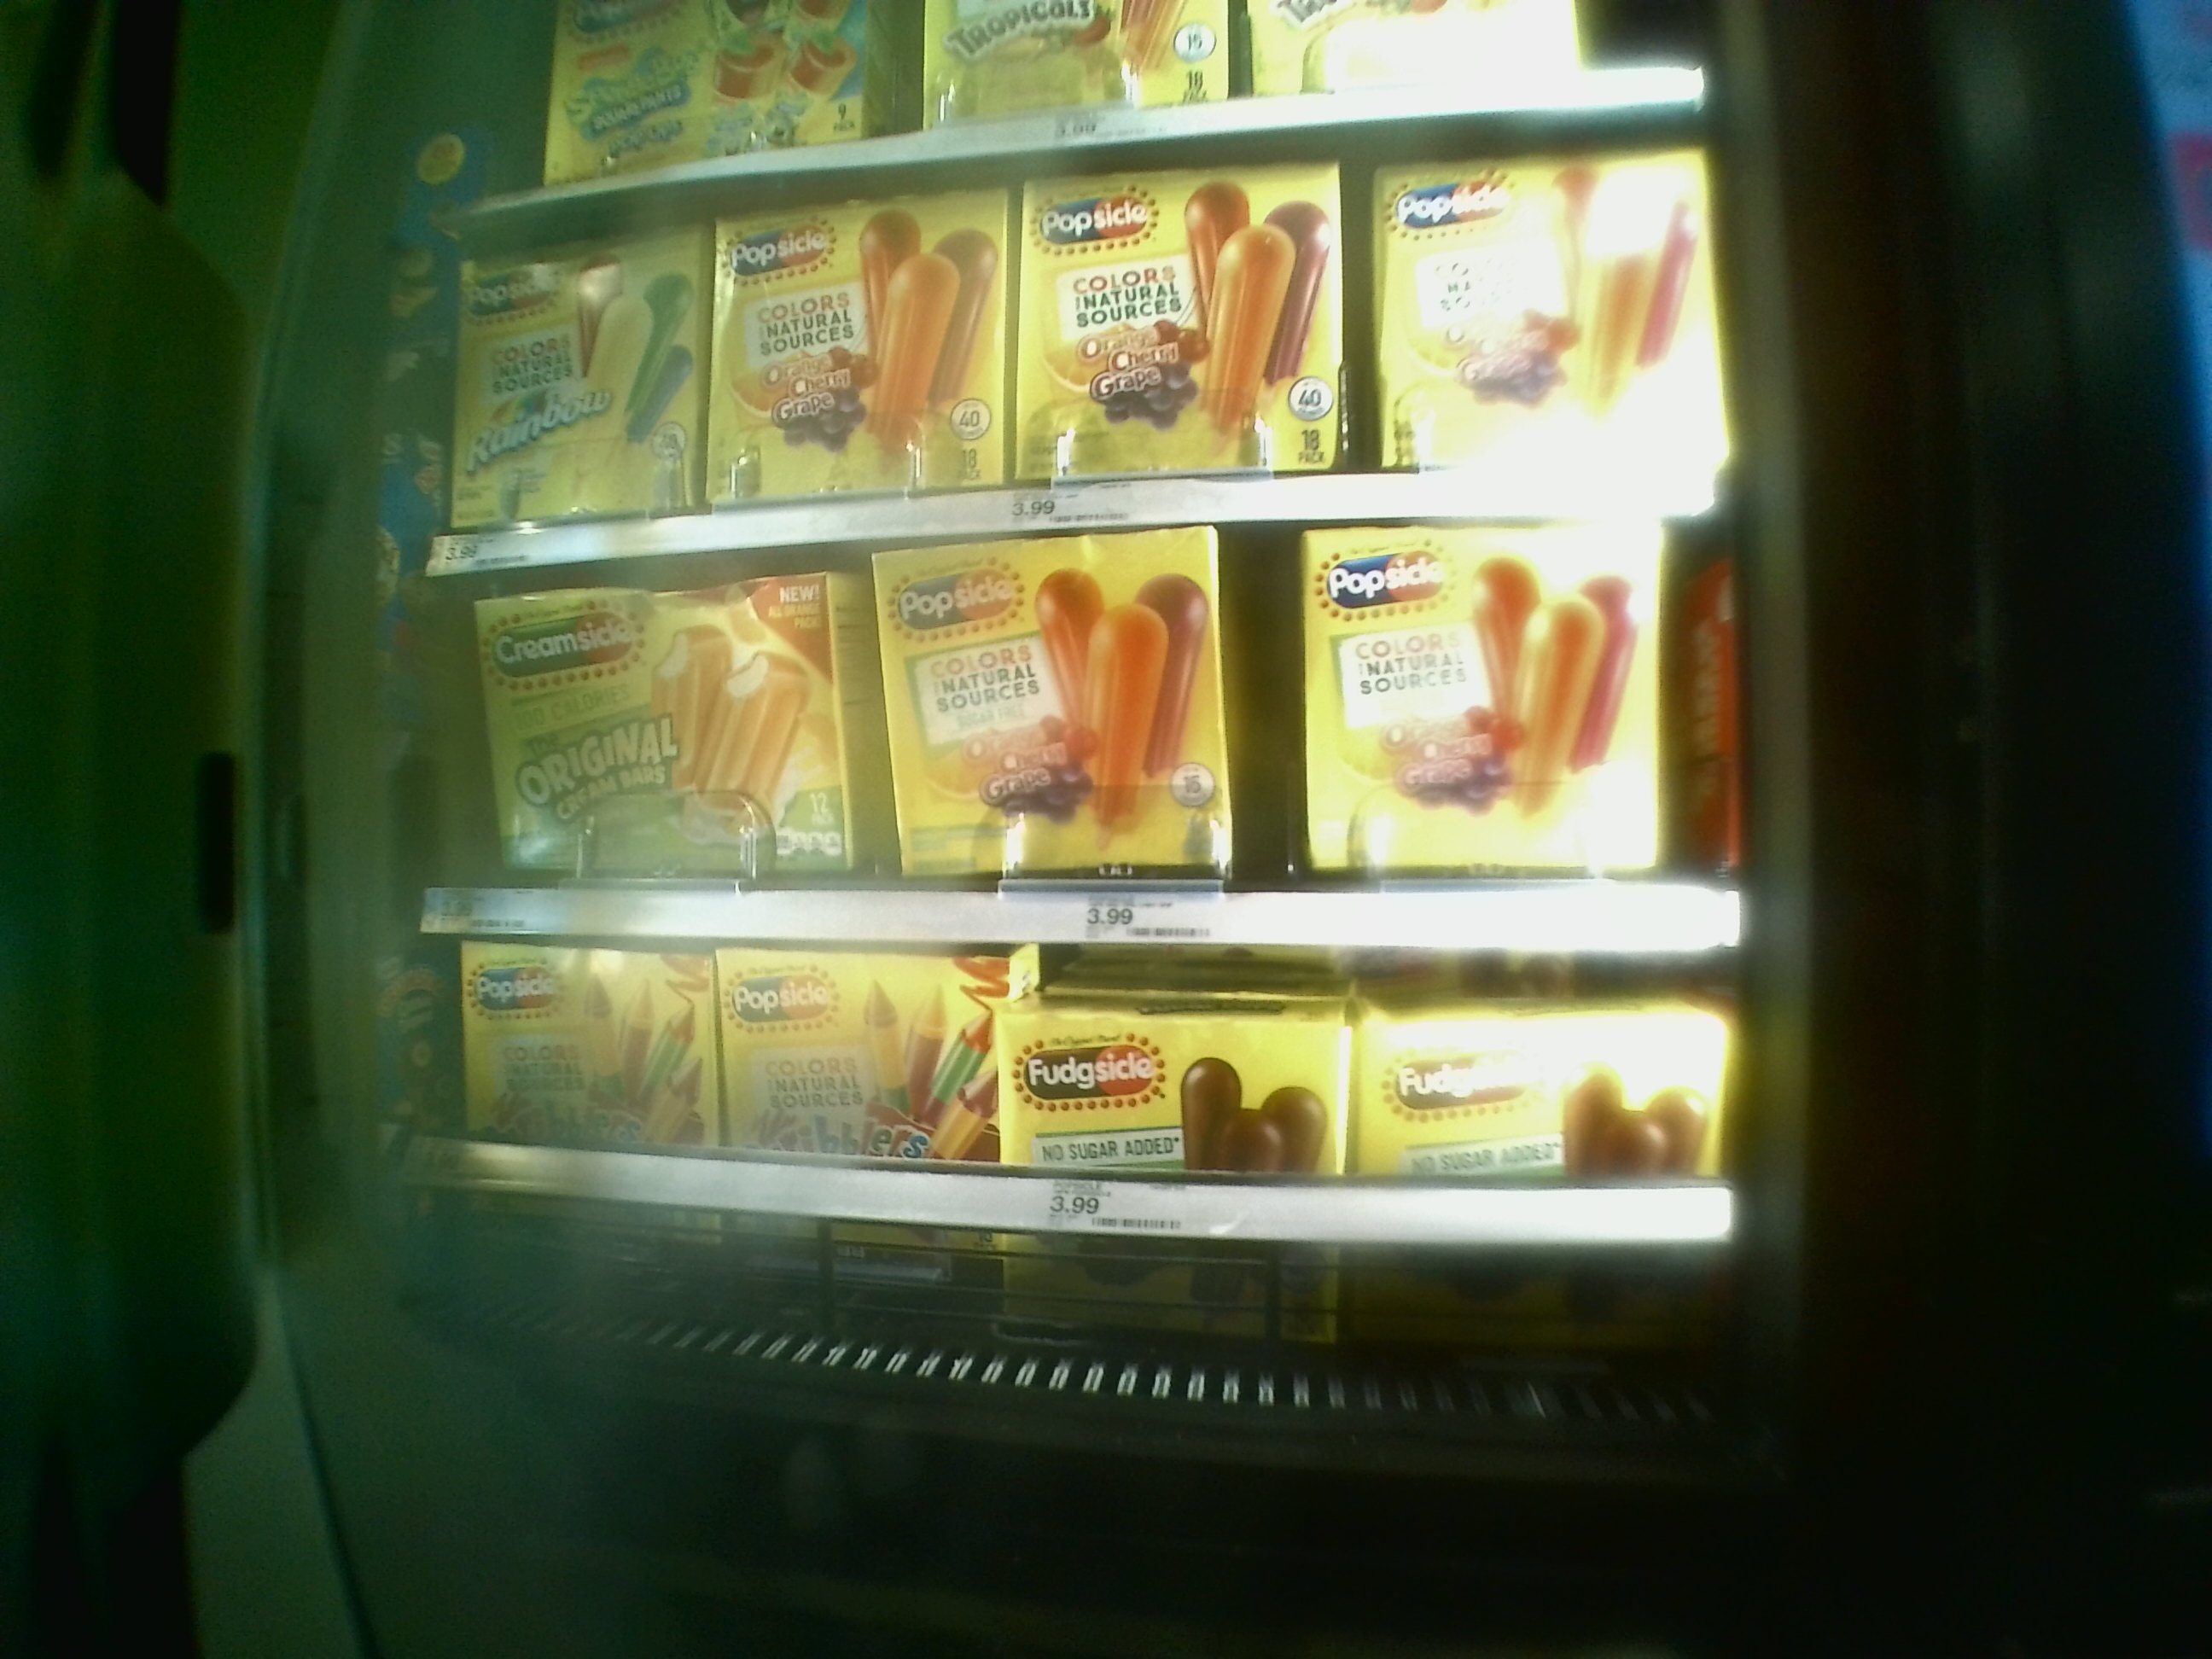shelf: (408, 962, 1764, 1349), (395, 570, 1733, 953)
